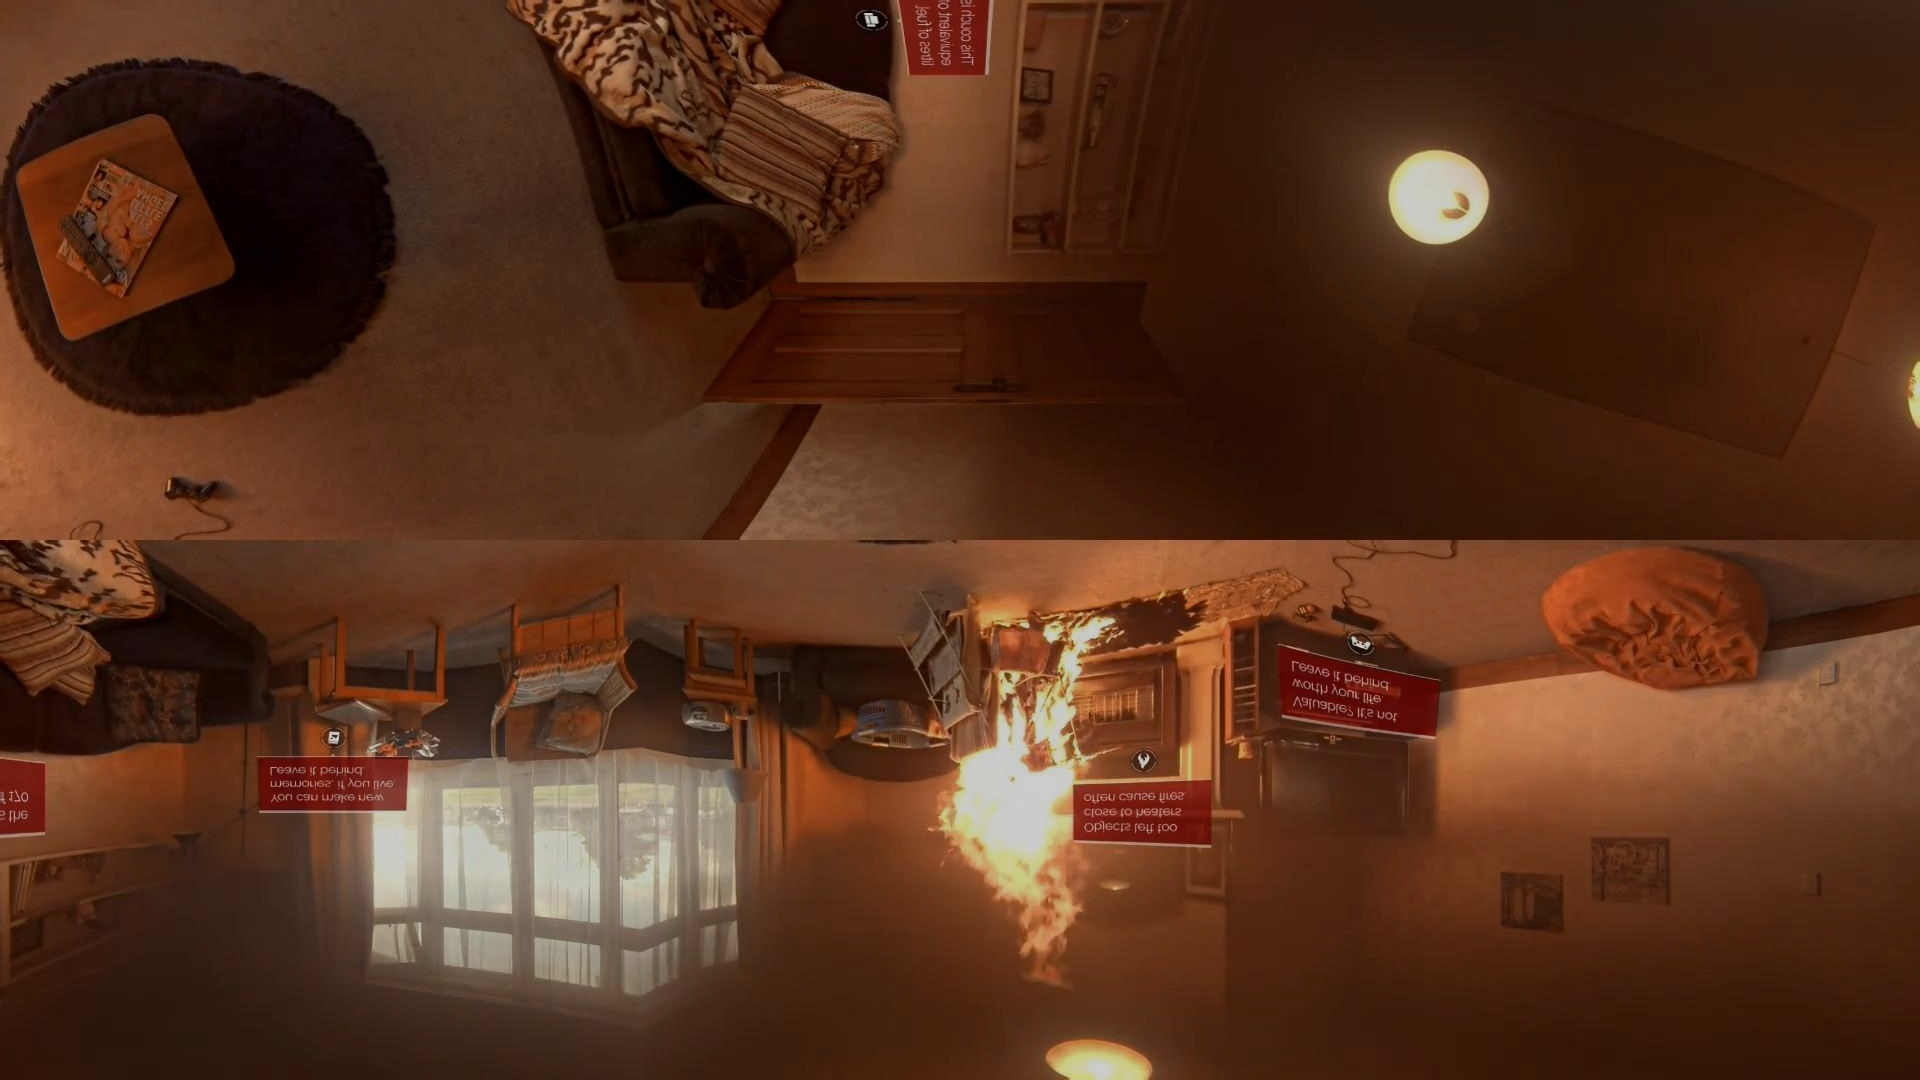fire: (895, 593, 1164, 989)
